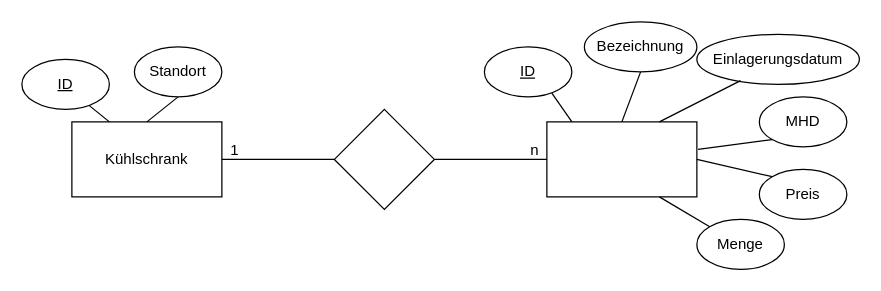
Image size: 881x291. Some labels were removed from this diagram. Here are the shapes that lost their labels. From the top down, the box of each, then its label:
(333, 108, 434, 209): enthält
(546, 121, 697, 197): Lebensmittel
